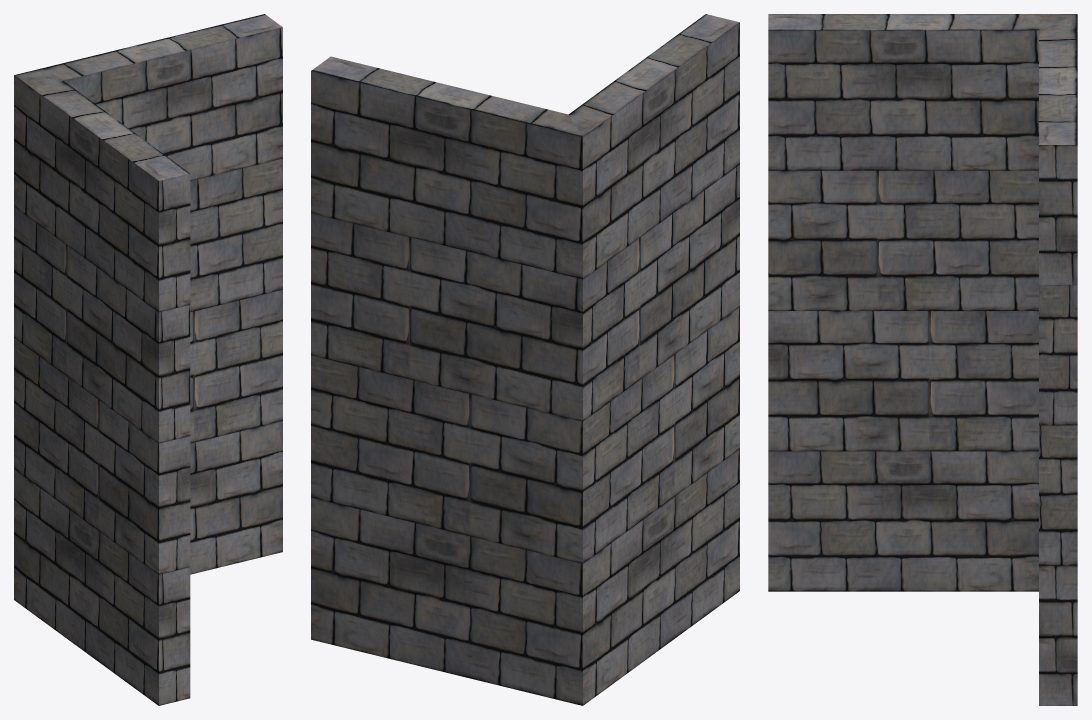
File: wall_corner_inner_01.glb
The picture shows the model from 3 angles, left to right: view 1: azimuth 30°, elevation 25°; view 2: azimuth 150°, elevation 25°; view 3: azimuth 270°, elevation 25°; orthographic projection. The views are drawn at different scales.
Parts seen in each view (by area): view 1: wall_corner_inner_01; view 2: wall_corner_inner_01; view 3: wall_corner_inner_01.
Boxes of the visible parts, x1,y1,x2,y2 form: wall_corner_inner_01: [14, 14, 282, 705]; wall_corner_inner_01: [311, 14, 739, 705]; wall_corner_inner_01: [768, 14, 1077, 705].
Size of the model in its own units: 8 by 16 by 8.
Materials: 1 (1 with a texture image).
